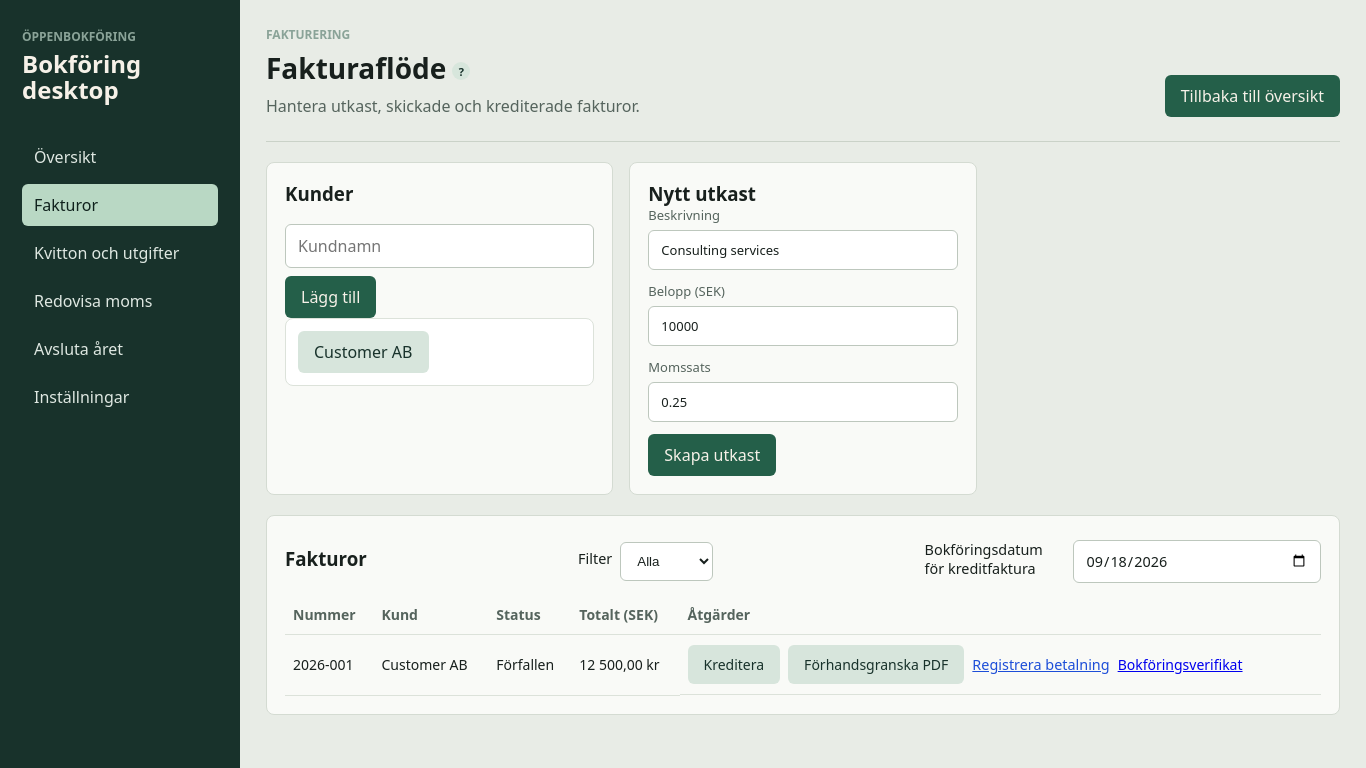
Test case: InvoicesPage › surfaces PDF-not-ready status when preview is requested before generation
The image size is (1366, 768).
Click the button "Förhandsgranska PDF": (876, 664) 788,645 -> 964,684
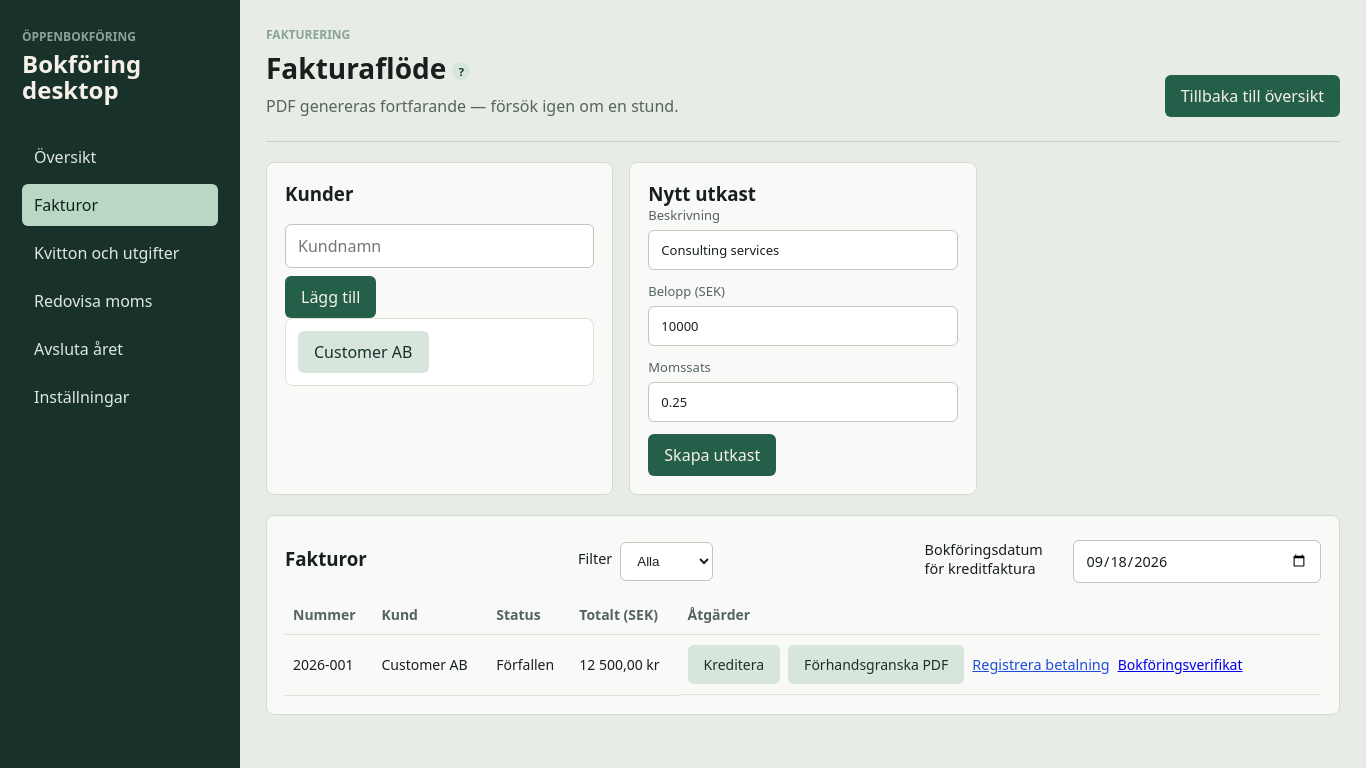
Now the text "PDF genereras fortfarande — försök igen om en stund." is shown, box 266,95 -> 678,117
